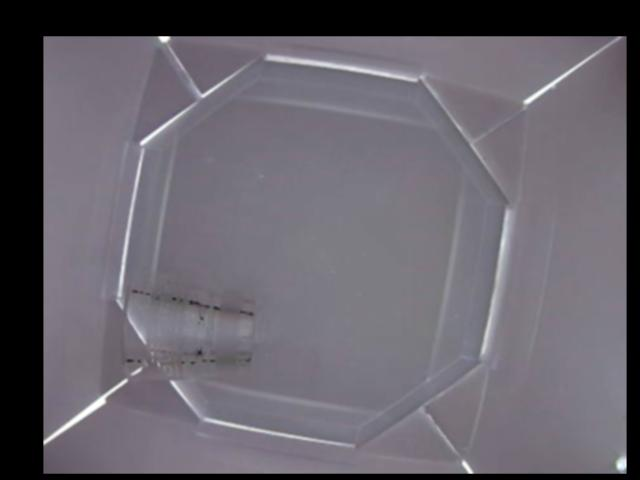Cup: (118, 284, 257, 389)
